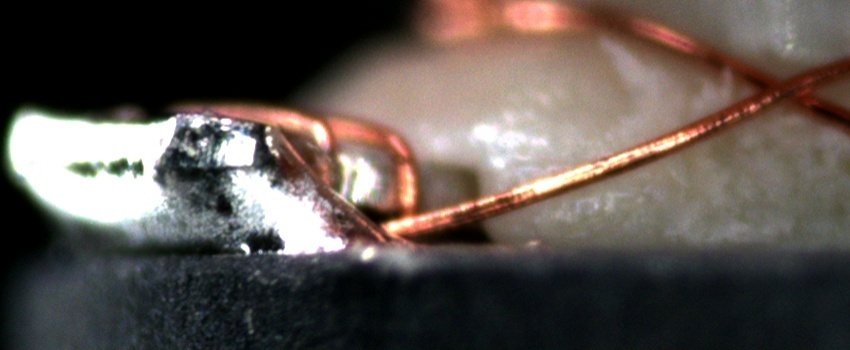CL: (730, 56, 825, 116)
DL: (509, 144, 612, 184)
TE: (178, 94, 437, 234)
